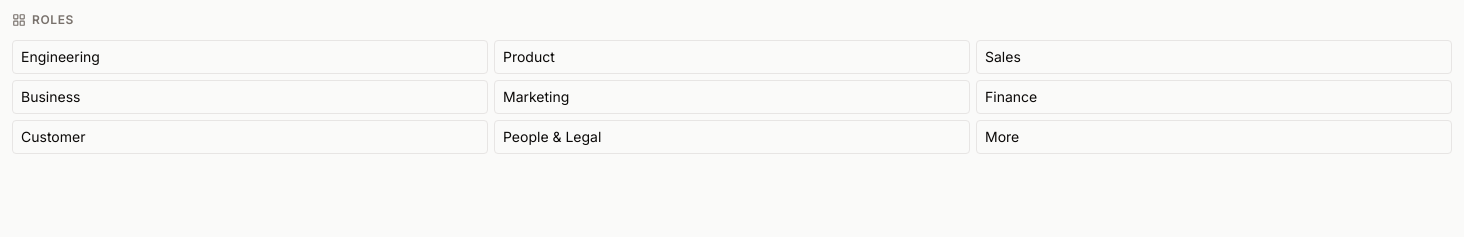
Test: RolePicker › clicking an active category collapses it
The width and height of the screenshot is (1464, 237).
Step 1. Click the button "Product" → (529, 56), box [494, 40, 970, 74]
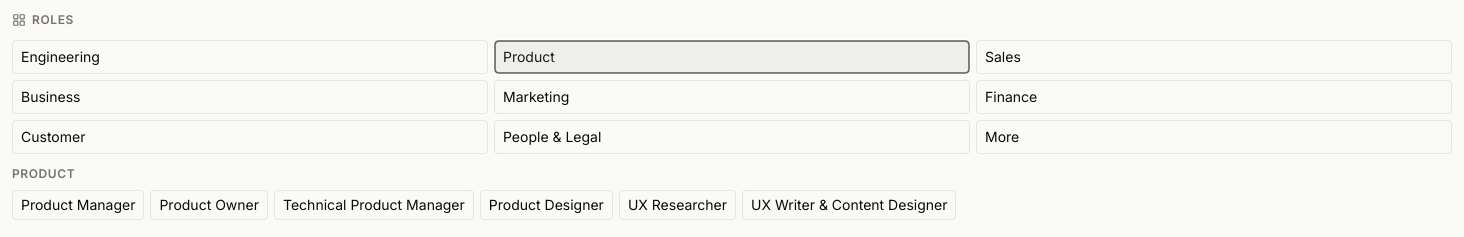
Step 2. Click the button "Product" → (529, 56), box [494, 40, 970, 74]
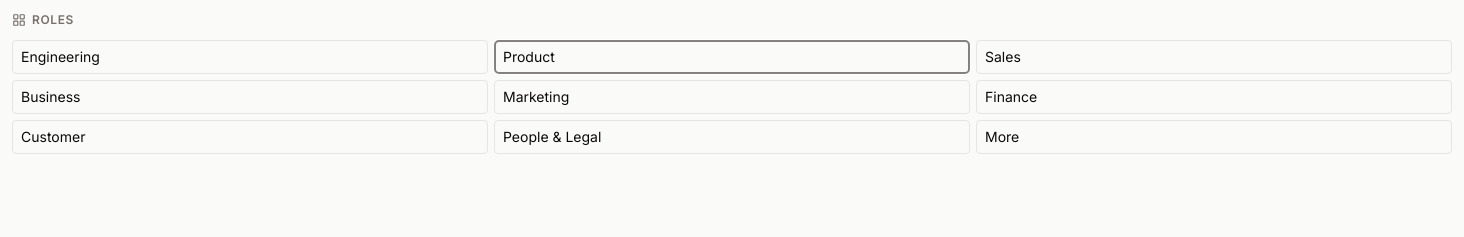
Check: the button "Product Manager" is gone
